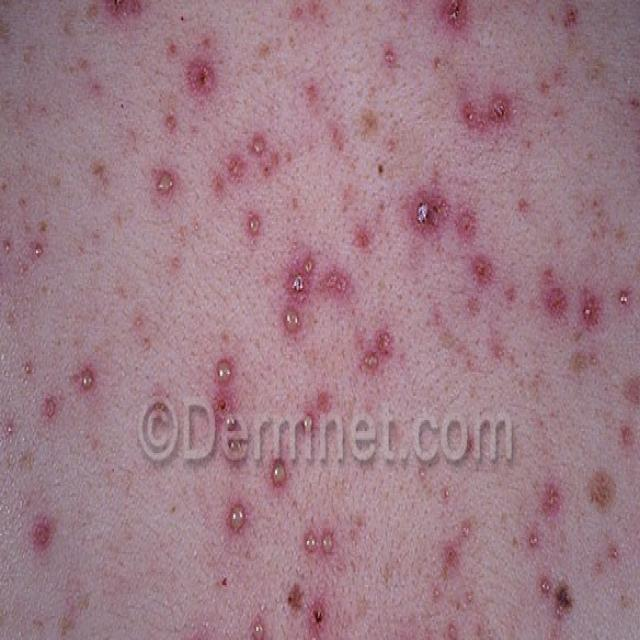Viral Infections: (405, 165, 637, 321), (276, 217, 400, 403), (511, 462, 634, 634), (148, 48, 252, 235), (432, 0, 528, 136), (295, 55, 402, 165), (17, 330, 108, 441), (0, 156, 56, 291), (196, 349, 256, 461), (23, 499, 81, 595), (295, 512, 358, 581), (244, 616, 343, 640), (268, 438, 295, 492), (227, 490, 248, 546), (181, 627, 222, 640)
